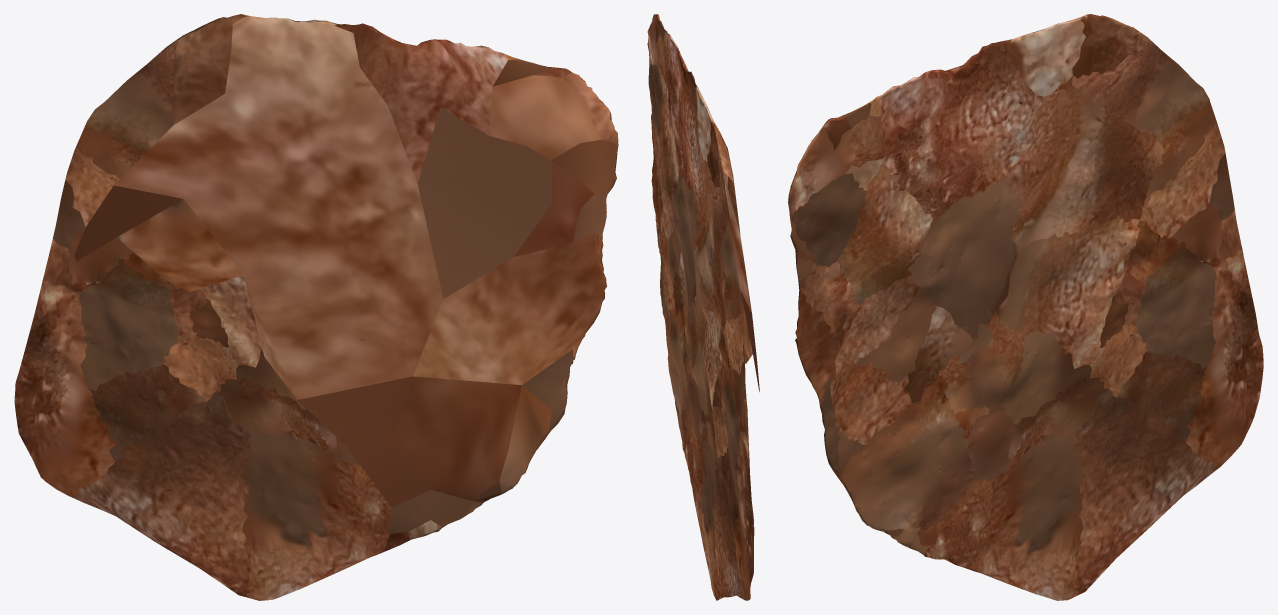
File: skin2.obj
3 views of the same model, side by side, from view 1: azimuth 30°, elevation 25°; view 2: azimuth 150°, elevation 25°; view 3: azimuth 270°, elevation 25° (orthographic). The views are drawn at different scales.
Size of the model in its own units: 0.4103 by 0.6305 by 0.4617.
